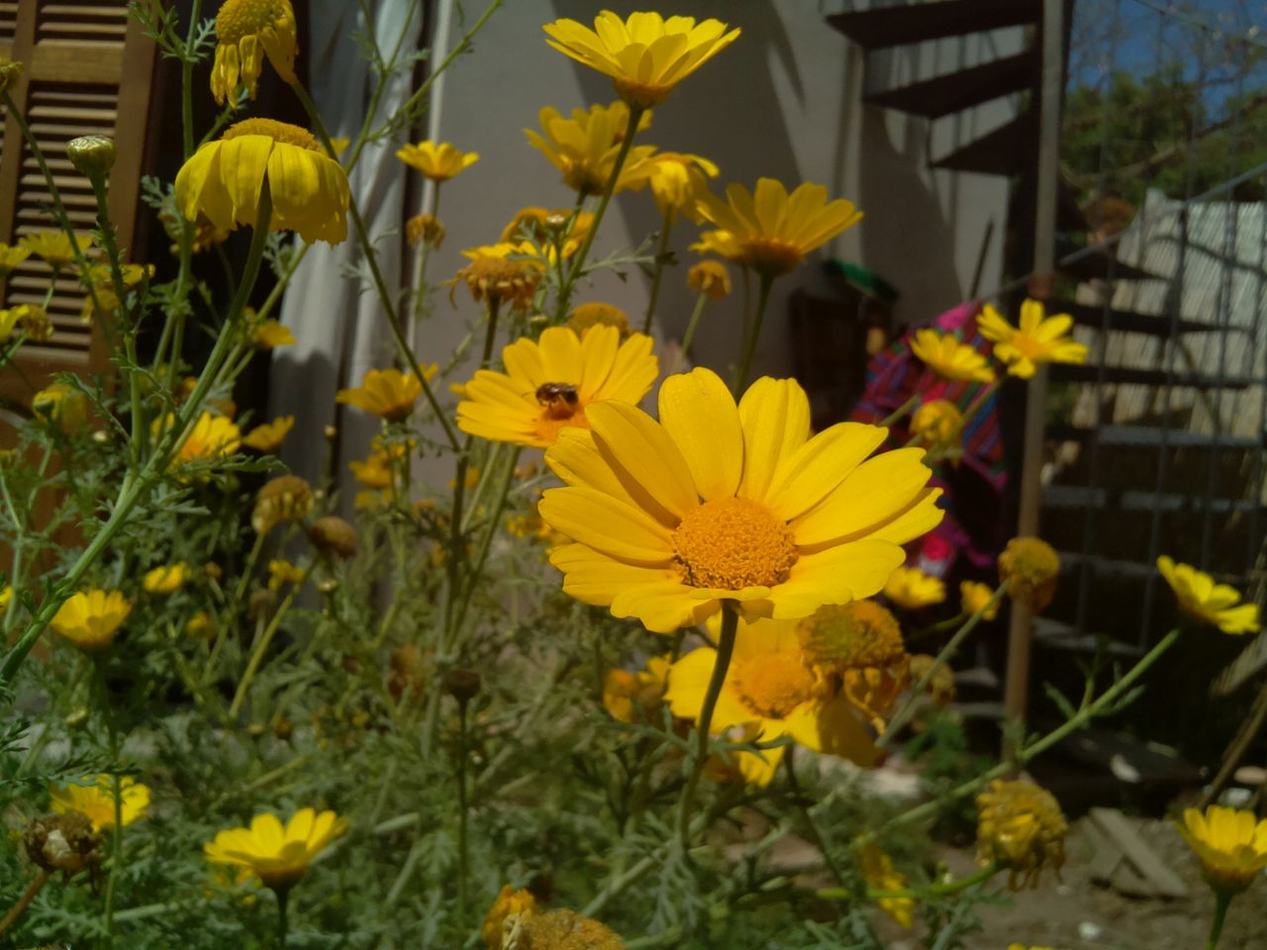Eucera: (513, 367, 592, 423)
